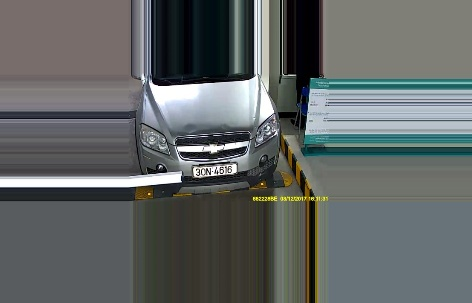plate: (189, 160, 238, 178)
